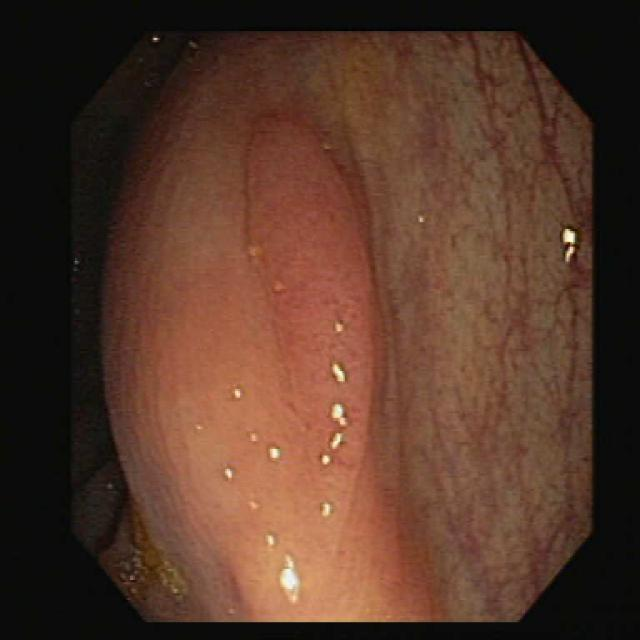tumor: (245, 118, 375, 518)
